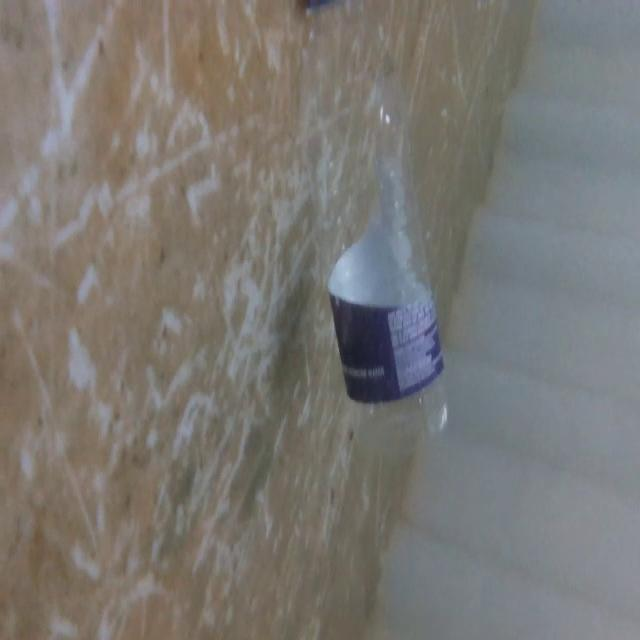plastic bottle: (285, 0, 475, 475)
